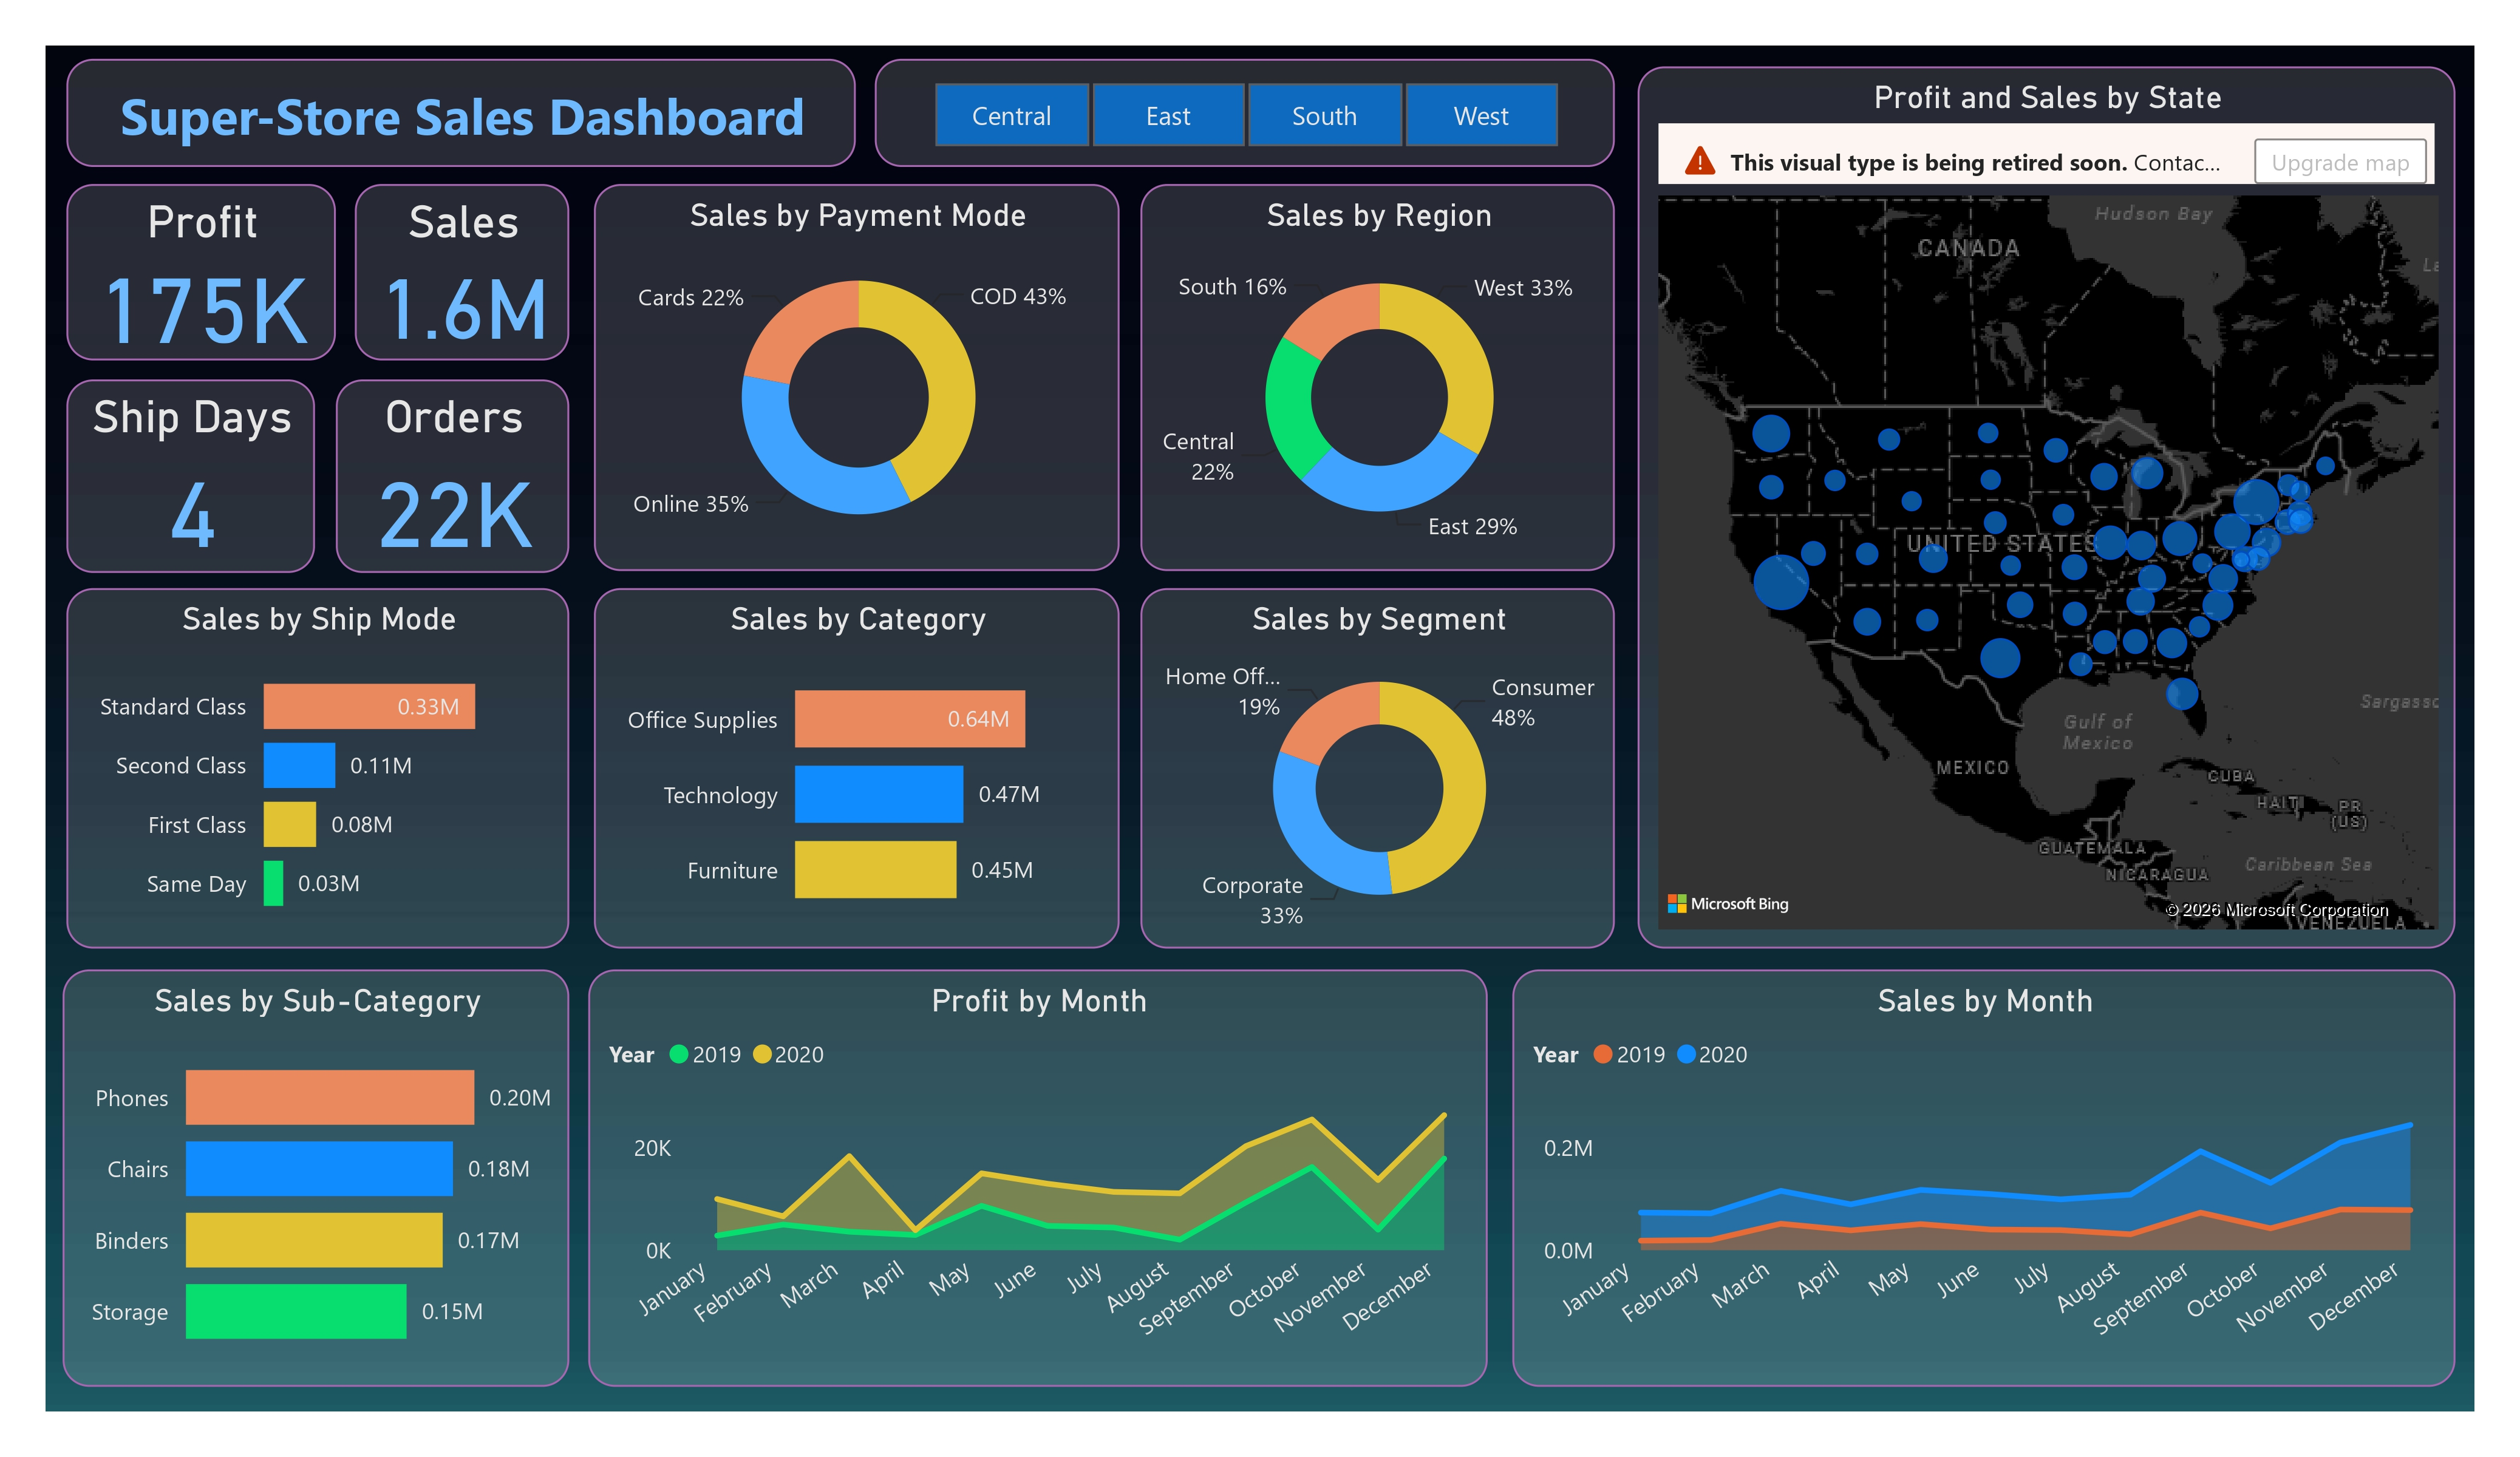

Layout of this report page (visuals, bound fields, positions):
{"tool":"powerbi","page":{"name":"Dashboard","canvas":[1280,720],"ordinal":0},"visuals":[{"type":"stackedAreaChart","title":"Sales by Month","fields":{"Category":["SuperStore_Sales_Dataset.Order Date.Variation.Date Hierarchy.Month","SuperStore_Sales_Dataset.Order Date.Variation.Date Hierarchy.Day"],"Y":["Sum(SuperStore_Sales_Dataset.Sales)"],"Series":["SuperStore_Sales_Dataset.Order Date.Variation.Date Hierarchy.Year"]},"box":[772.9,487.1,497.1,220],"z":0},{"type":"barChart","title":"Sales by Category","fields":{"Category":["SuperStore_Sales_Dataset.Category"],"Y":["Sum(SuperStore_Sales_Dataset.Sales)"]},"box":[288.6,285.7,277.1,190],"z":1000},{"type":"barChart","title":"Sales by Sub-Category","fields":{"Y":["Sum(SuperStore_Sales_Dataset.Sales)"],"Category":["SuperStore_Sales_Dataset.Sub-Category"]},"box":[8.6,487.1,267.1,220],"z":2000},{"type":"barChart","title":"Sales by Ship Mode","fields":{"Y":["Sum(SuperStore_Sales_Dataset.Sales)"],"Category":["SuperStore_Sales_Dataset.Ship Mode"]},"box":[11.4,285.7,264.3,190],"z":3000},{"type":"stackedAreaChart","title":"Profit by Month","fields":{"Category":["SuperStore_Sales_Dataset.Order Date.Variation.Date Hierarchy.Month","SuperStore_Sales_Dataset.Order Date.Variation.Date Hierarchy.Day"],"Series":["SuperStore_Sales_Dataset.Order Date.Variation.Date Hierarchy.Year"],"Y":["Sum(SuperStore_Sales_Dataset.Profit)"]},"box":[285.7,487.1,474.3,220],"z":4000},{"type":"map","title":"Profit and Sales by State","fields":{"Category":["SuperStore_Sales_Dataset.State"],"Size":["Sum(SuperStore_Sales_Dataset.Sales)"]},"box":[838.6,11.4,431.4,464.3],"z":5000},{"type":"donutChart","title":"Sales by Segment","fields":{"Category":["SuperStore_Sales_Dataset.Segment"],"Y":["Sum(SuperStore_Sales_Dataset.Sales)"]},"box":[577.1,285.7,250,190],"z":6000},{"type":"donutChart","title":"Sales by Payment Mode","fields":{"Category":["SuperStore_Sales_Dataset.Payment Mode"],"Y":["Sum(SuperStore_Sales_Dataset.Sales)"]},"box":[288.6,72.9,277.1,204.3],"z":7000},{"type":"slicer","fields":{"Values":["SuperStore_Sales_Dataset.Region"]},"box":[437.1,7.1,390,57.1],"z":8000},{"type":"textbox","box":[11.4,7.1,415.7,57.1],"z":9000},{"type":"card","title":"Sales","fields":{"Values":["Sum(SuperStore_Sales_Dataset.Sales)"]},"box":[162.9,72.9,112.9,92.9],"z":10000},{"type":"card","title":"Orders","fields":{"Values":["Sum(SuperStore_Sales_Dataset.Quantity)"]},"box":[152.6,176,123.7,101.7],"z":11000},{"type":"card","title":"Profit","fields":{"Values":["Sum(SuperStore_Sales_Dataset.Profit)"]},"box":[11,72.9,141.6,93.5],"z":12000},{"type":"card","title":"Ship Days","fields":{"Values":["Avg(SuperStore_Sales_Dataset.Avg_Delivery)"]},"box":[11,176,130.6,101.7],"z":13000},{"type":"donutChart","title":"Sales by Region","fields":{"Y":["Sum(SuperStore_Sales_Dataset.Sales)"],"Category":["SuperStore_Sales_Dataset.Region"]},"box":[577.1,72.9,250,204.3],"z":14000}]}

Visuals, with their boxes on the page's 1280x720 design canvas (x1, y1, x2, y2). These are canvas units, not pixel positions in the 2520x1457 screenshot, which may show the page scaled, cropped or inside an application window:
"Sales by Month" stackedAreaChart: [773,487,1270,707]
"Sales by Category" barChart: [289,286,566,476]
"Sales by Sub-Category" barChart: [9,487,276,707]
"Sales by Ship Mode" barChart: [11,286,276,476]
"Profit by Month" stackedAreaChart: [286,487,760,707]
"Profit and Sales by State" map: [839,11,1270,476]
"Sales by Segment" donutChart: [577,286,827,476]
"Sales by Payment Mode" donutChart: [289,73,566,277]
slicer - SuperStore_Sales_Dataset.Region: [437,7,827,64]
textbox: [11,7,427,64]
"Sales" card: [163,73,276,166]
"Orders" card: [153,176,276,278]
"Profit" card: [11,73,153,166]
"Ship Days" card: [11,176,142,278]
"Sales by Region" donutChart: [577,73,827,277]
